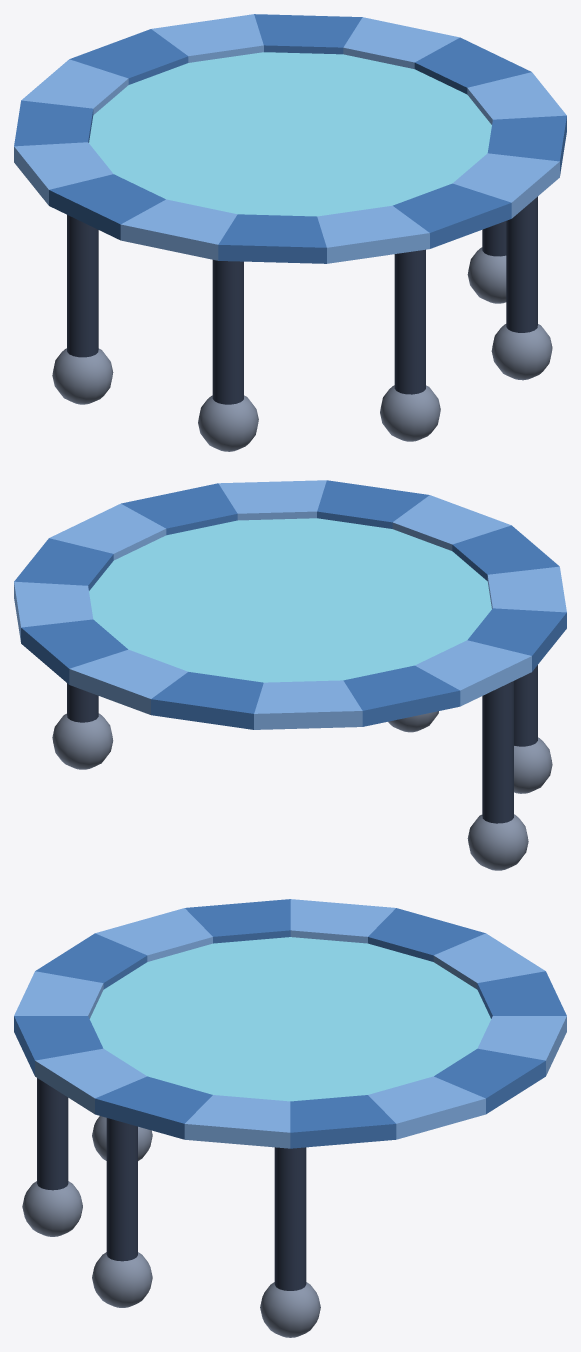
The model's file is bengchuang.FBX.
3 renders of one model, top to bottom at view 1: azimuth 30°, elevation 25°; view 2: azimuth 150°, elevation 25°; view 3: azimuth 270°, elevation 25°, orthographic.
Visible parts, largest first — view 1: 蹦床; view 2: 蹦床; view 3: 蹦床.
Part boxes in pixels (bbox=[...]): 蹦床: bbox=[14, 14, 566, 451]; 蹦床: bbox=[14, 480, 566, 870]; 蹦床: bbox=[14, 899, 566, 1337].
Size of the model in its own units: 99.56 by 43.45 by 99.56.
